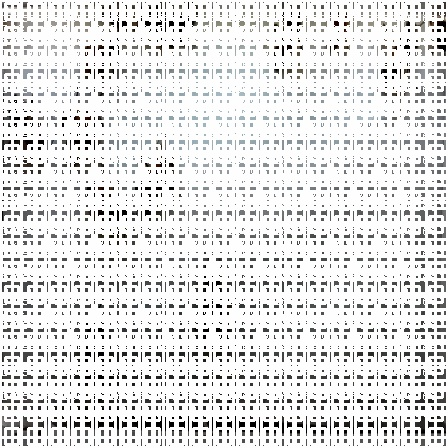bee: (73, 286, 127, 403), (372, 18, 427, 120), (41, 95, 115, 169), (189, 236, 235, 355), (71, 169, 139, 249), (62, 20, 138, 89), (1, 83, 54, 180), (132, 122, 179, 229), (133, 3, 211, 66), (263, 4, 314, 92), (322, 7, 359, 65)
